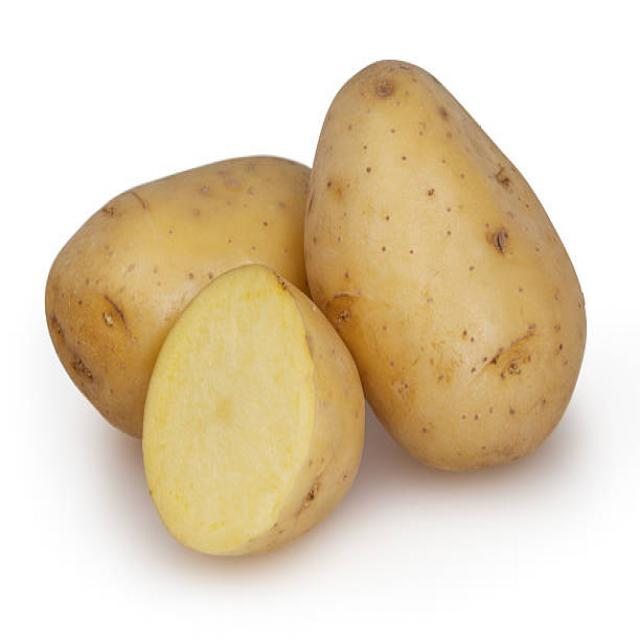Potato: (330, 53, 587, 475), (138, 269, 357, 555), (40, 150, 311, 288)
